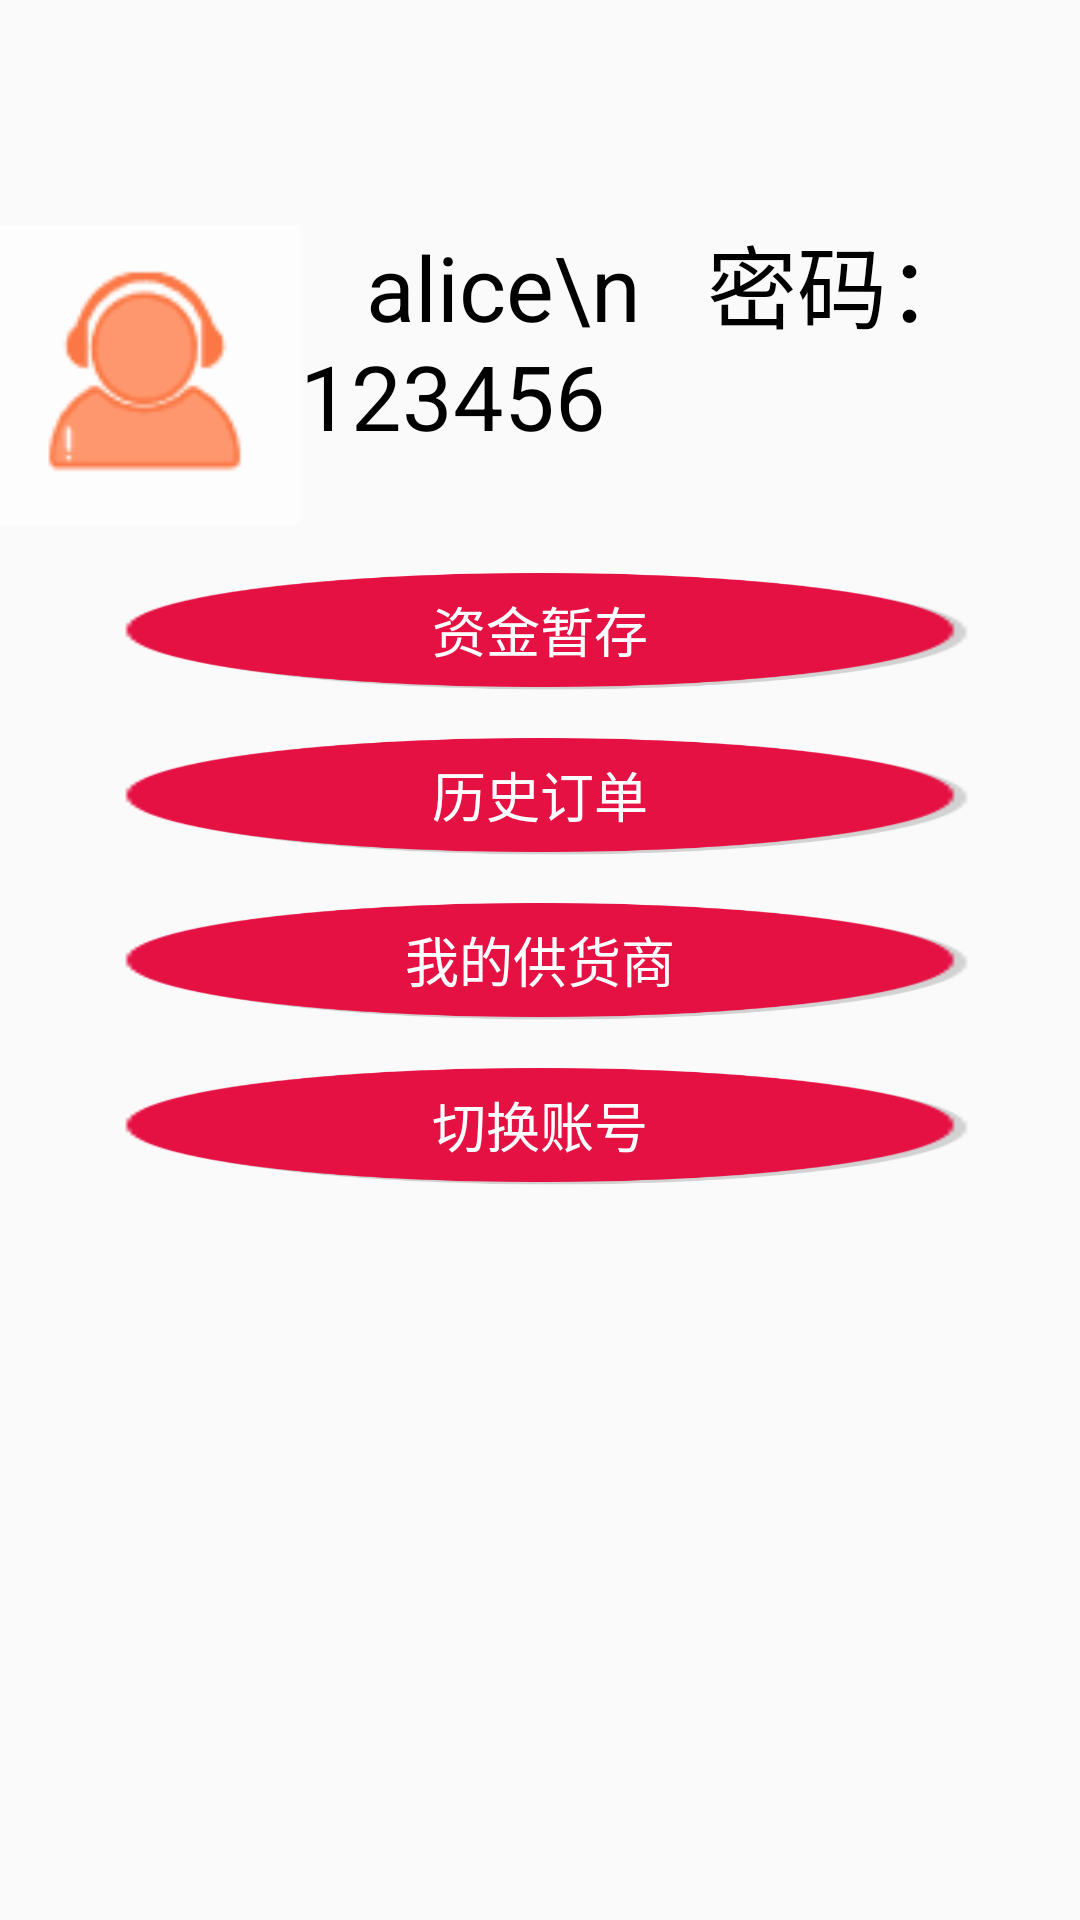

Point at icon controls on the screen. Image size 1080w x 1920h, points as (x,y).
me touxiang: (144,371)
